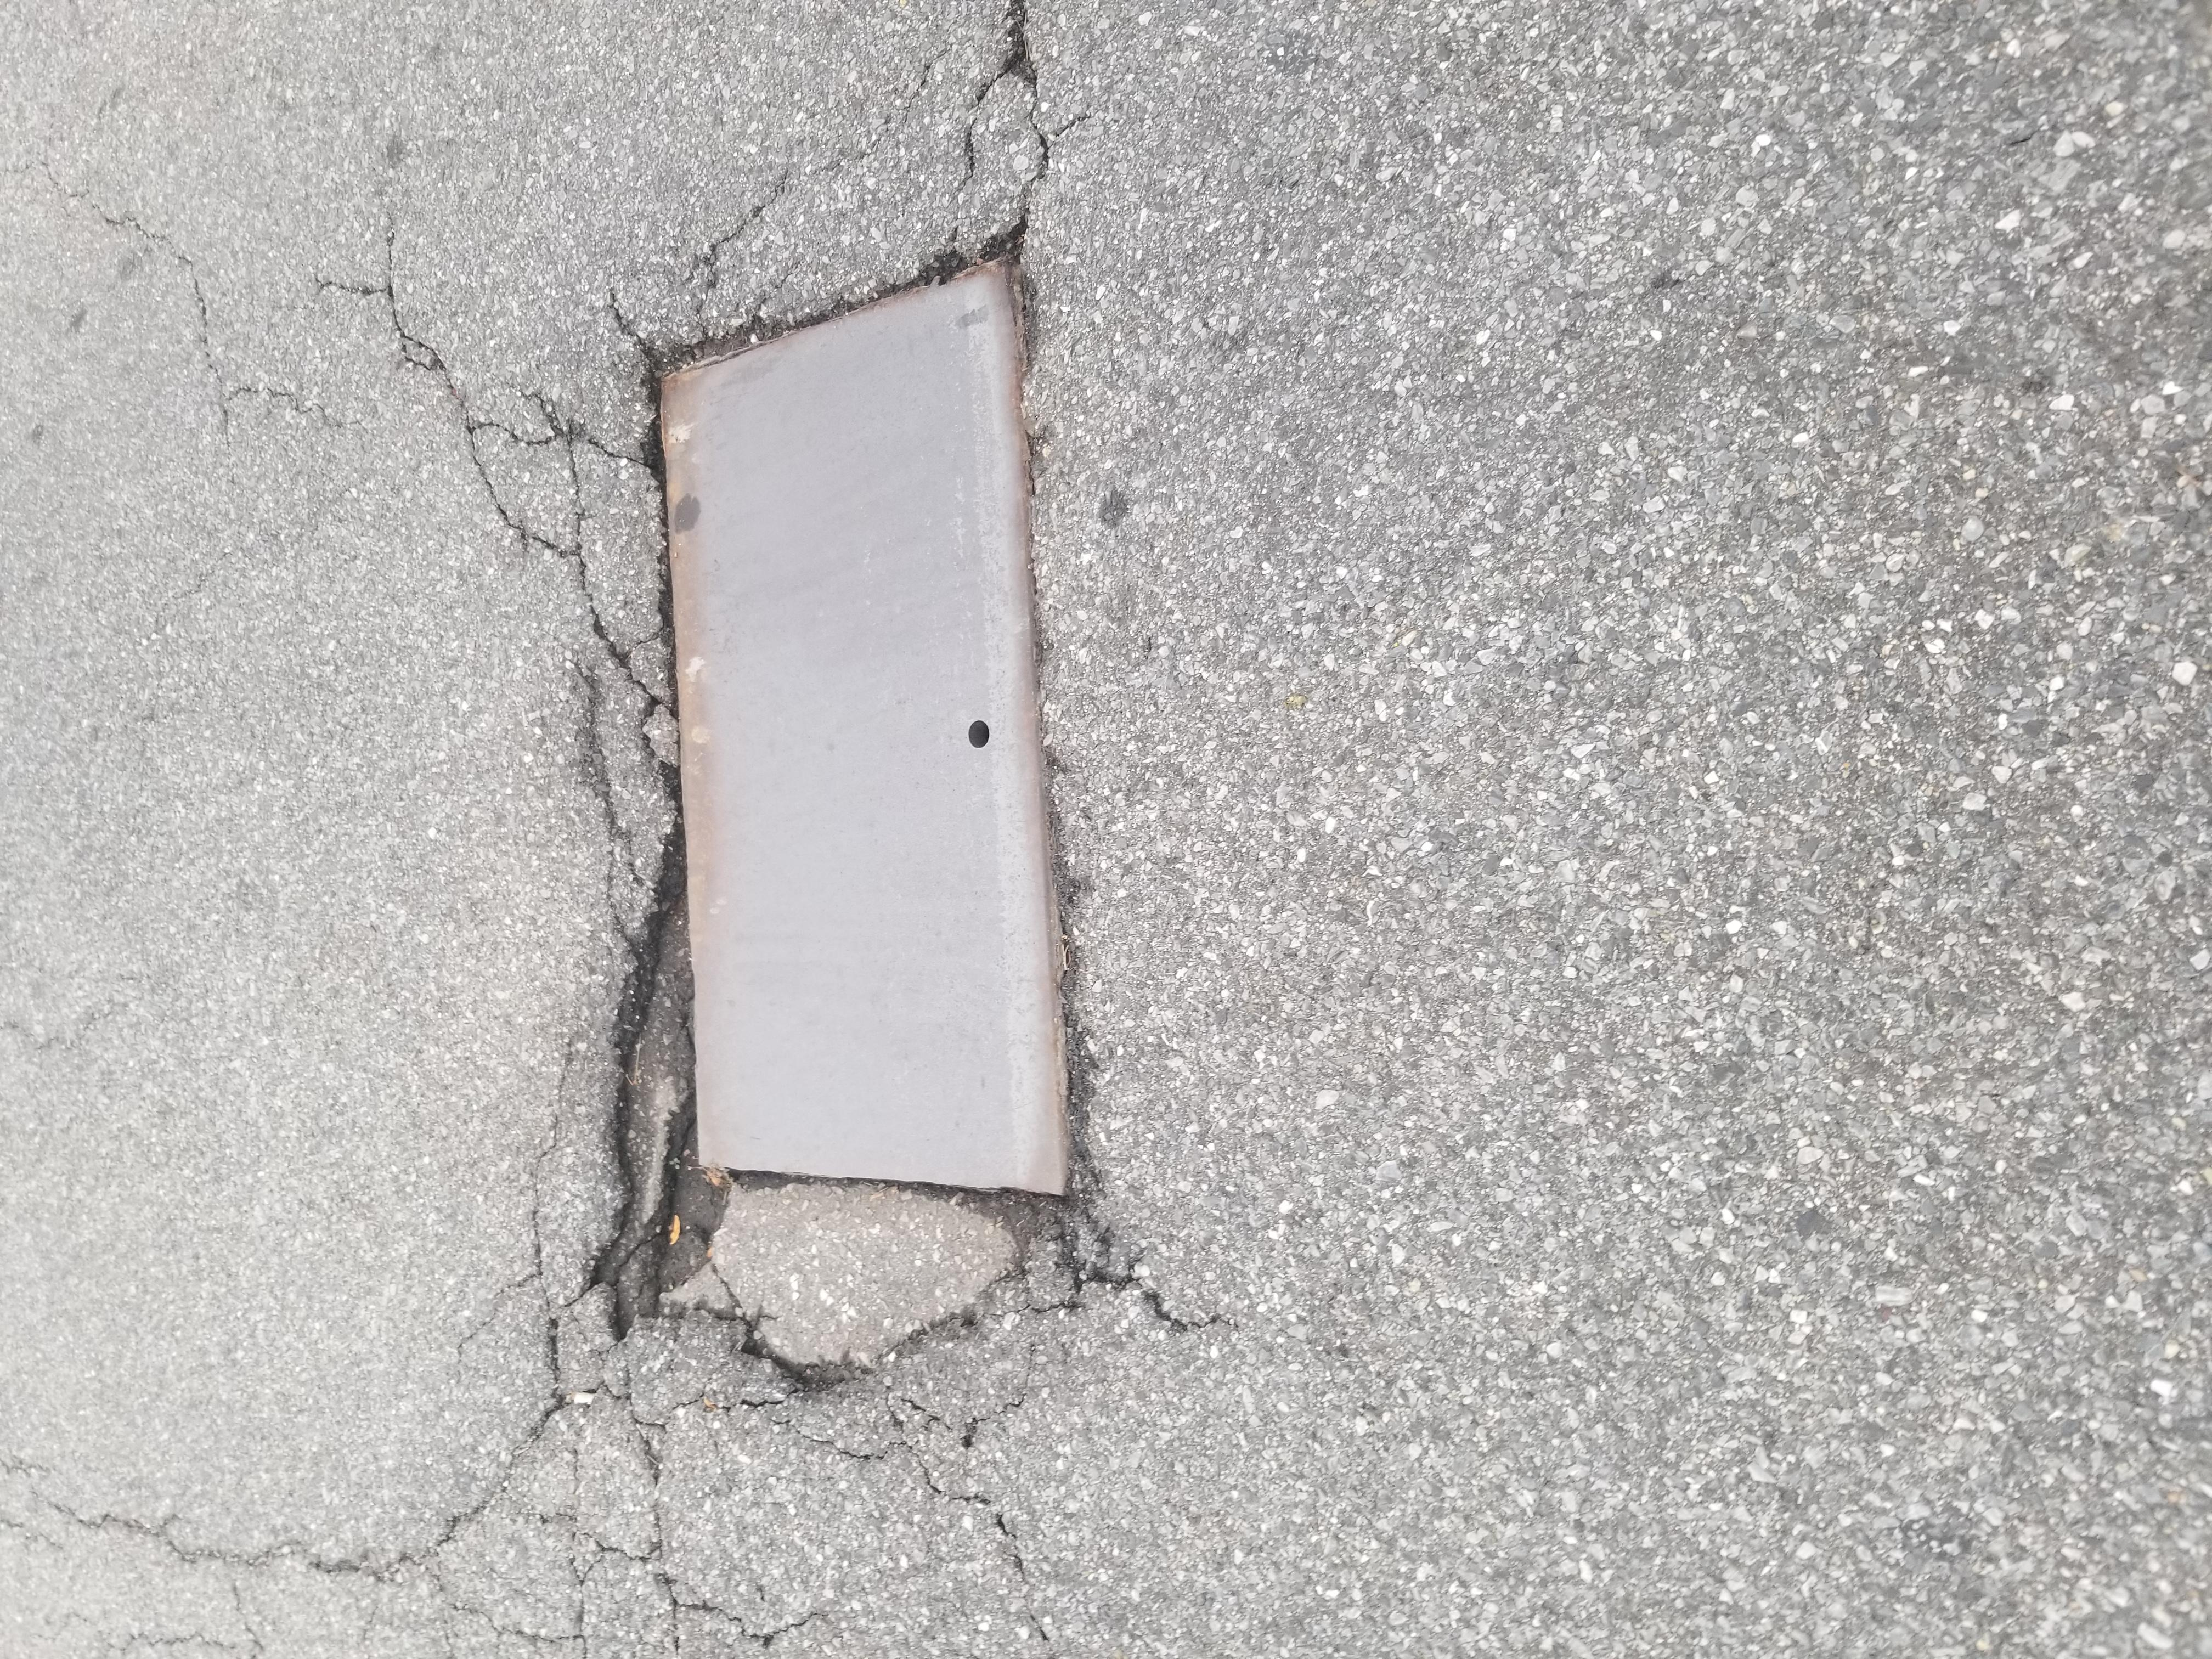alligator-crack: (0, 376, 582, 843)
crack: (1205, 232, 1946, 505), (1642, 0, 2015, 239), (99, 0, 329, 366), (1848, 713, 2184, 817)
